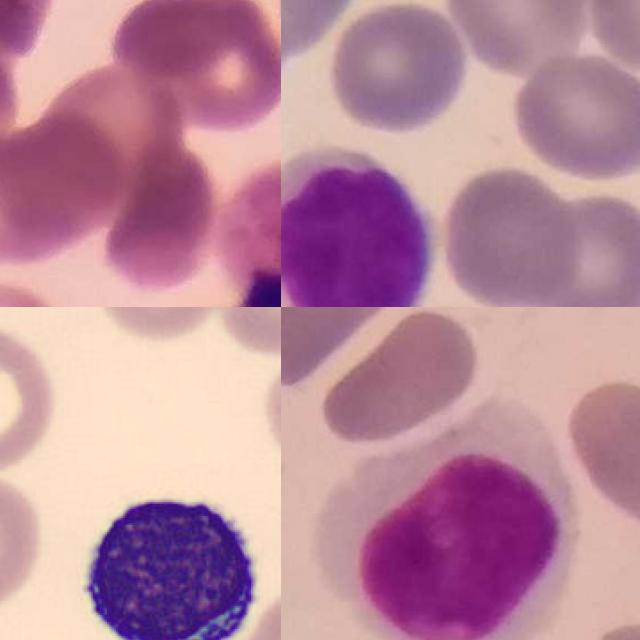Lymphocyte: (314, 394, 583, 640), (60, 477, 270, 640), (281, 147, 442, 307)
Neutrophil: (215, 146, 281, 307)
RBC: (0, 316, 61, 475), (0, 466, 50, 620), (91, 307, 238, 343)
